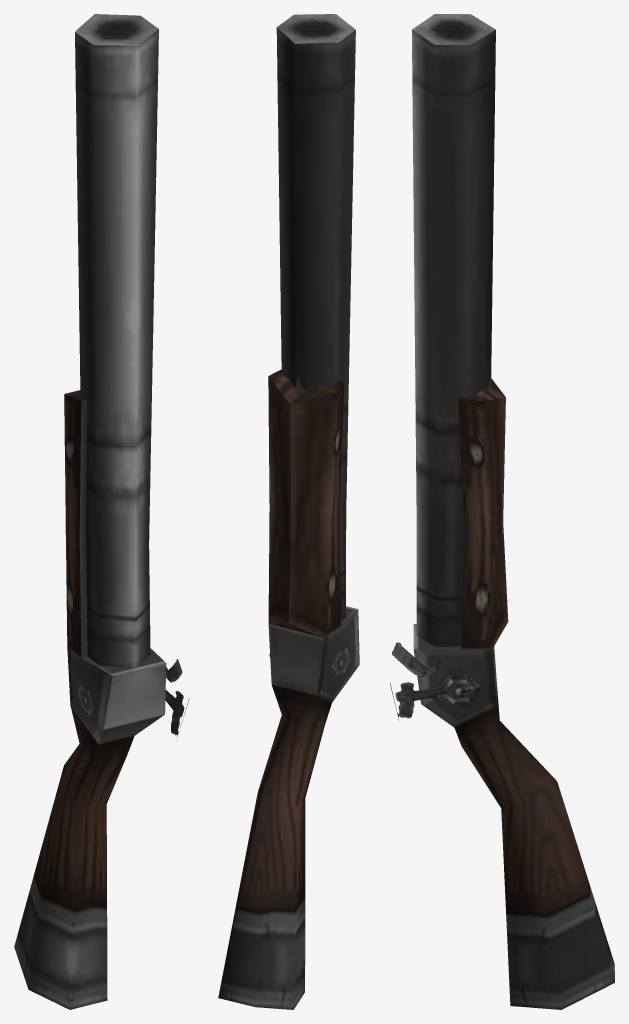
File: rifle01_7d1f4451.glb
The picture shows the model from 3 angles, left to right: view 1: azimuth 30°, elevation 25°; view 2: azimuth 150°, elevation 25°; view 3: azimuth 270°, elevation 25°; orthographic projection. The views are drawn at different scales.
Bounding box in the file's own units: 0.1411 × 1.74 × 0.3689.
Materials: 1 (1 with a texture image).
